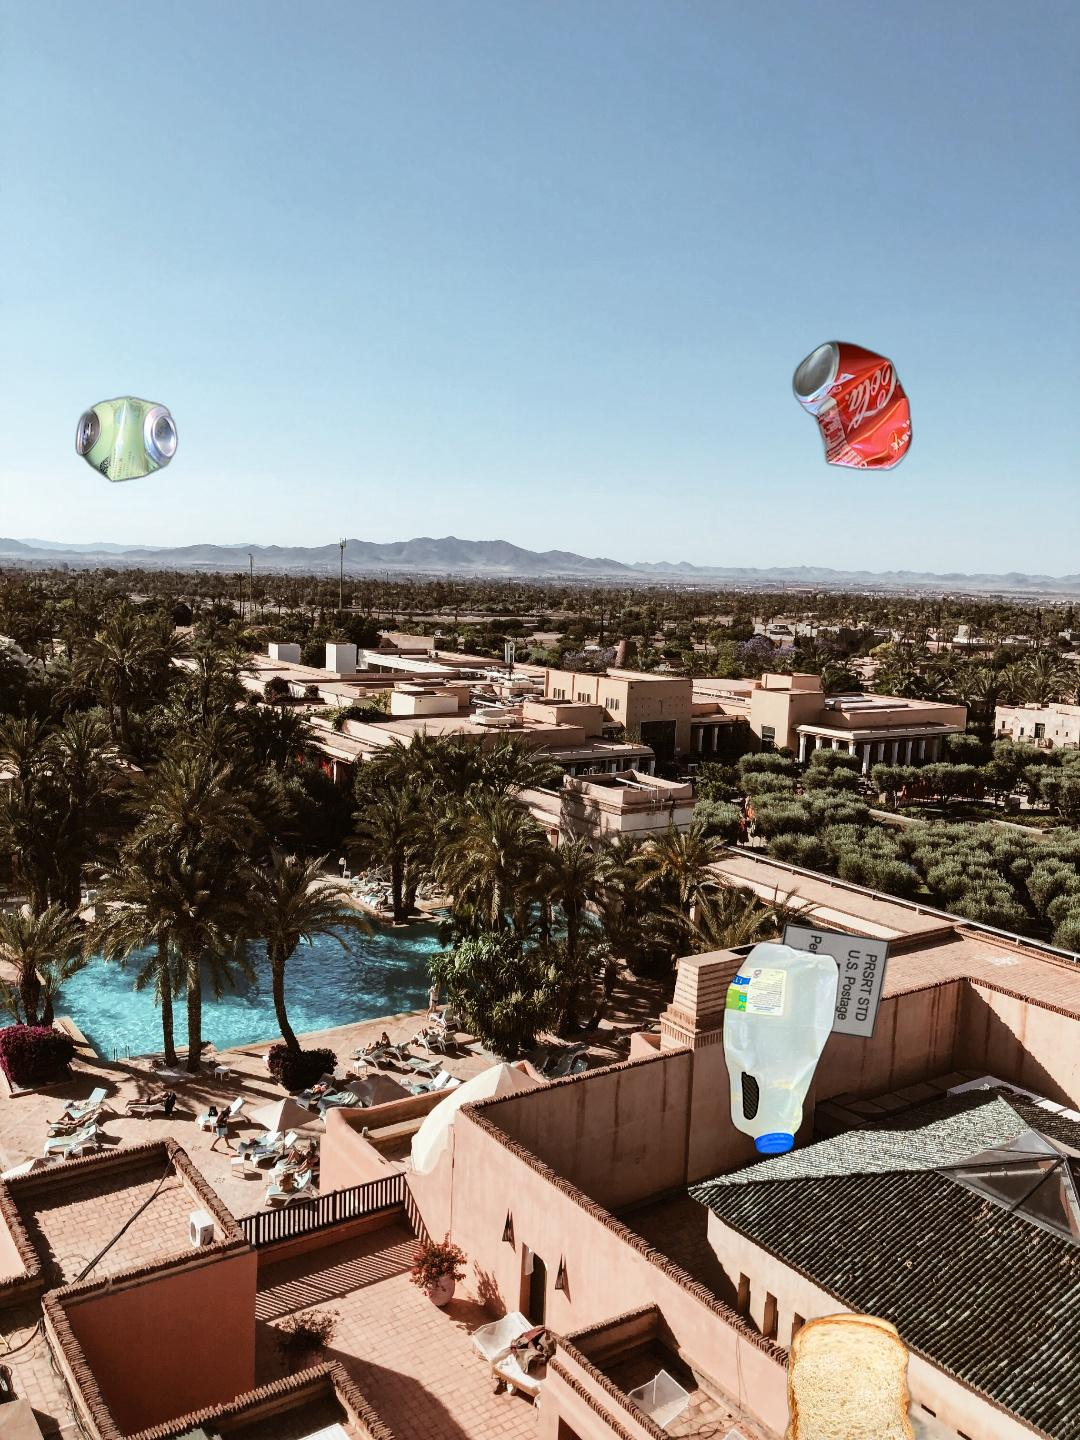biological: (778, 1310, 943, 1440)
metal-cans: (71, 391, 375, 812), (788, 335, 917, 477)
paper: (761, 845, 971, 1085)
plastic-bottles: (718, 935, 843, 1160)
